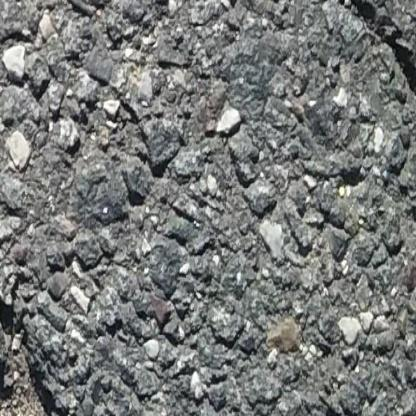Cracks: (322, 0, 416, 118), (0, 292, 62, 416)
